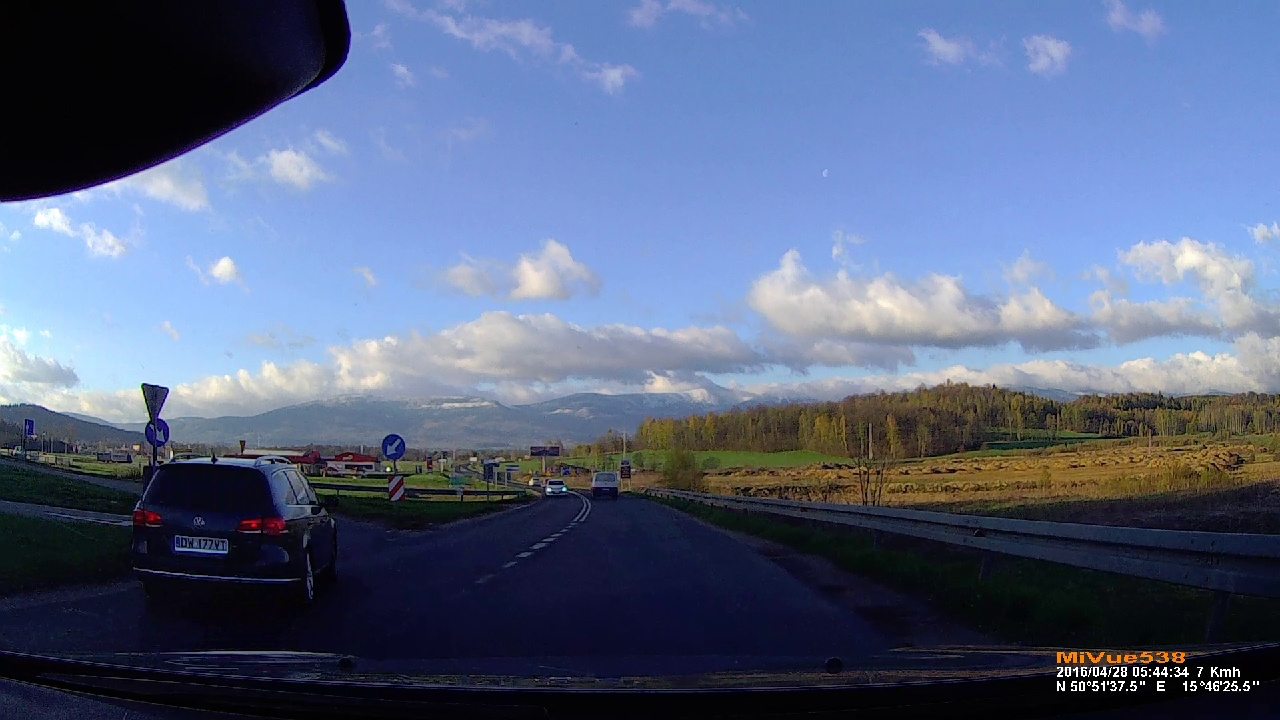C10: (381, 434, 405, 459)
C9: (146, 419, 169, 447)
